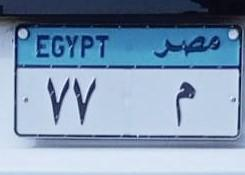7: (43, 75, 71, 128), (72, 73, 99, 124)
meem: (173, 75, 197, 131)
